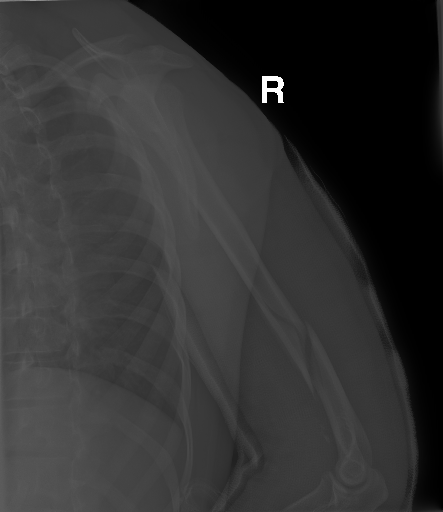fracture: (248, 273, 331, 400)
